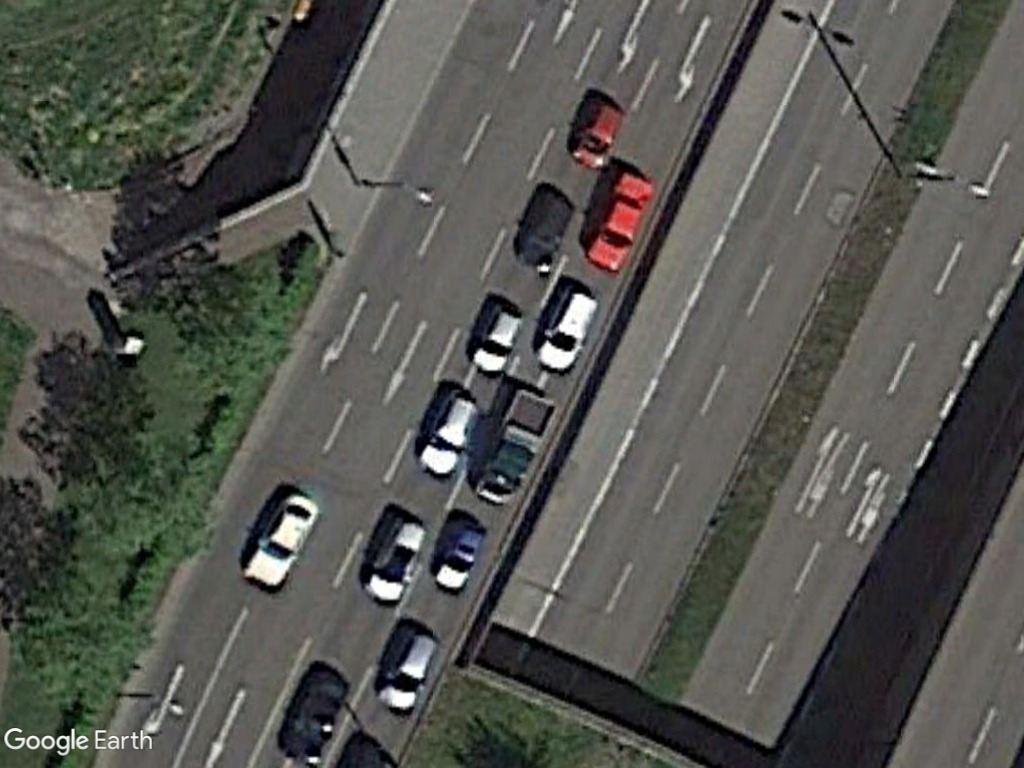car: (235, 490, 320, 594), (580, 167, 655, 277), (372, 621, 439, 720), (531, 287, 602, 380), (360, 514, 431, 605), (416, 389, 481, 485), (466, 302, 527, 382), (567, 94, 627, 172)
